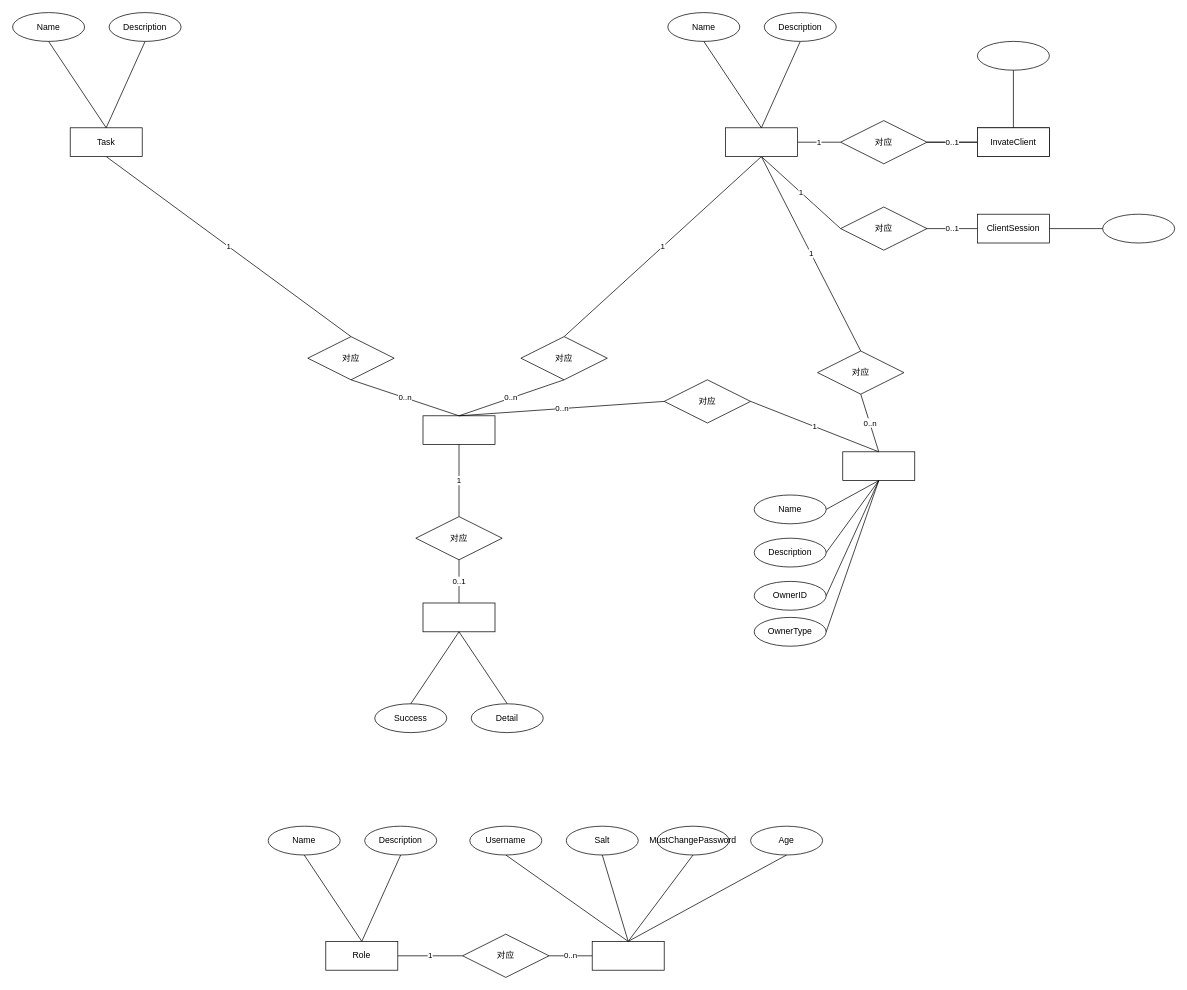
The diagram is 1187 pixels wide and 990 high, and some of its shapes have lost their labels. Here are the shapes that lost their labels. From the top down, the centre of each, then its label:
At point 1013,55: "InvateCode".
At point 761,142: "Client".
At point 1138,228: "UUID".
At point 458,430: "TaskQueue".
At point 878,466: "Service".
At point 458,617: "TaskQueueResult".
At point 627,955: "User".
